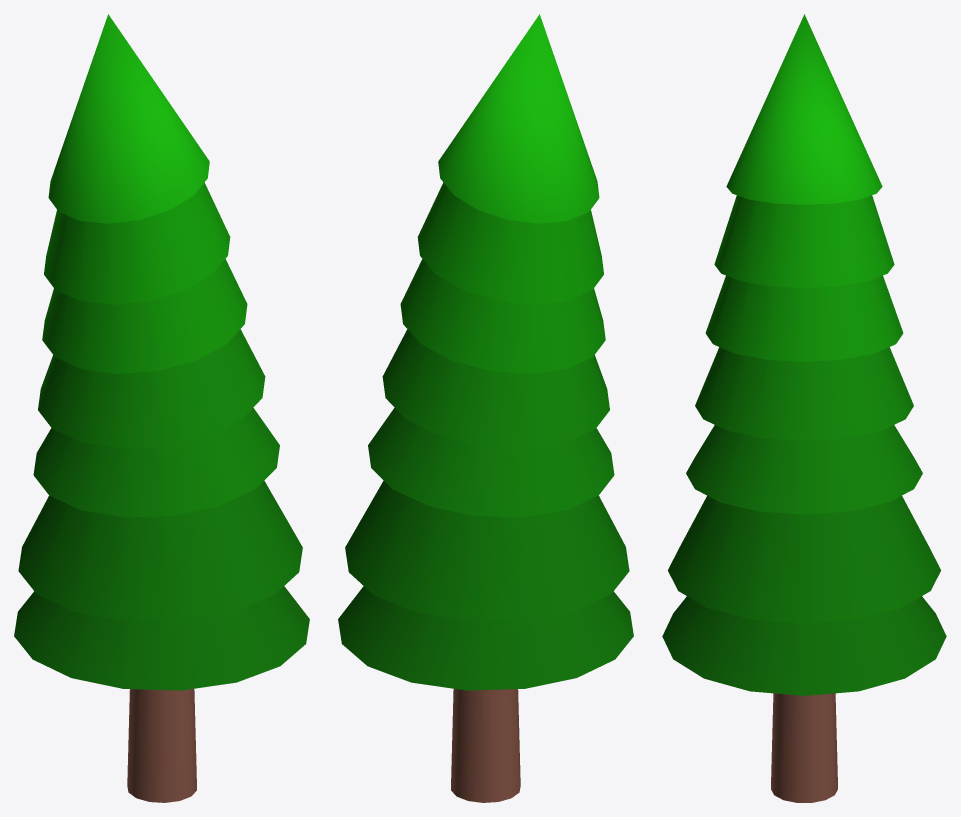
File: Spruce_Cold_Green_Thin_4.fbx
3 views of the same model, side by side, from view 1: azimuth 30°, elevation 25°; view 2: azimuth 150°, elevation 25°; view 3: azimuth 270°, elevation 25° (orthographic). The views are drawn at different scales.
Visible parts, largest first — view 1: Cylinder.965, Cylinder.964, Cylinder.966, Cylinder.967, Cylinder.969, Cylinder.962, Cylinder.968, Cylinder.963; view 2: Cylinder.965, Cylinder.964, Cylinder.966, Cylinder.967, Cylinder.969, Cylinder.962, Cylinder.968, Cylinder.963; view 3: Cylinder.965, Cylinder.964, Cylinder.966, Cylinder.967, Cylinder.969, Cylinder.962, Cylinder.968, Cylinder.963.
Boxes of the visible parts, x1,y1,x2,y2 form: Cylinder.965: (18, 480, 302, 621); Cylinder.964: (14, 586, 309, 690); Cylinder.966: (48, 14, 209, 223); Cylinder.967: (33, 408, 279, 517); Cylinder.969: (38, 329, 265, 448); Cylinder.962: (44, 182, 230, 304); Cylinder.968: (42, 259, 247, 373); Cylinder.963: (127, 689, 196, 802); Cylinder.965: (345, 480, 629, 621); Cylinder.964: (338, 586, 633, 690); Cylinder.966: (438, 14, 599, 223); Cylinder.967: (368, 408, 614, 517); Cylinder.969: (382, 329, 609, 448); Cylinder.962: (417, 182, 603, 304); Cylinder.968: (400, 259, 605, 373); Cylinder.963: (451, 689, 520, 802); Cylinder.965: (668, 495, 940, 623); Cylinder.964: (662, 596, 946, 695); Cylinder.966: (726, 14, 882, 204); Cylinder.967: (686, 425, 922, 514); Cylinder.969: (695, 347, 913, 440); Cylinder.962: (714, 195, 894, 287); Cylinder.968: (705, 275, 903, 361); Cylinder.963: (771, 693, 837, 802).
Bounding box in the file's own units: 195 × 569 × 195.
